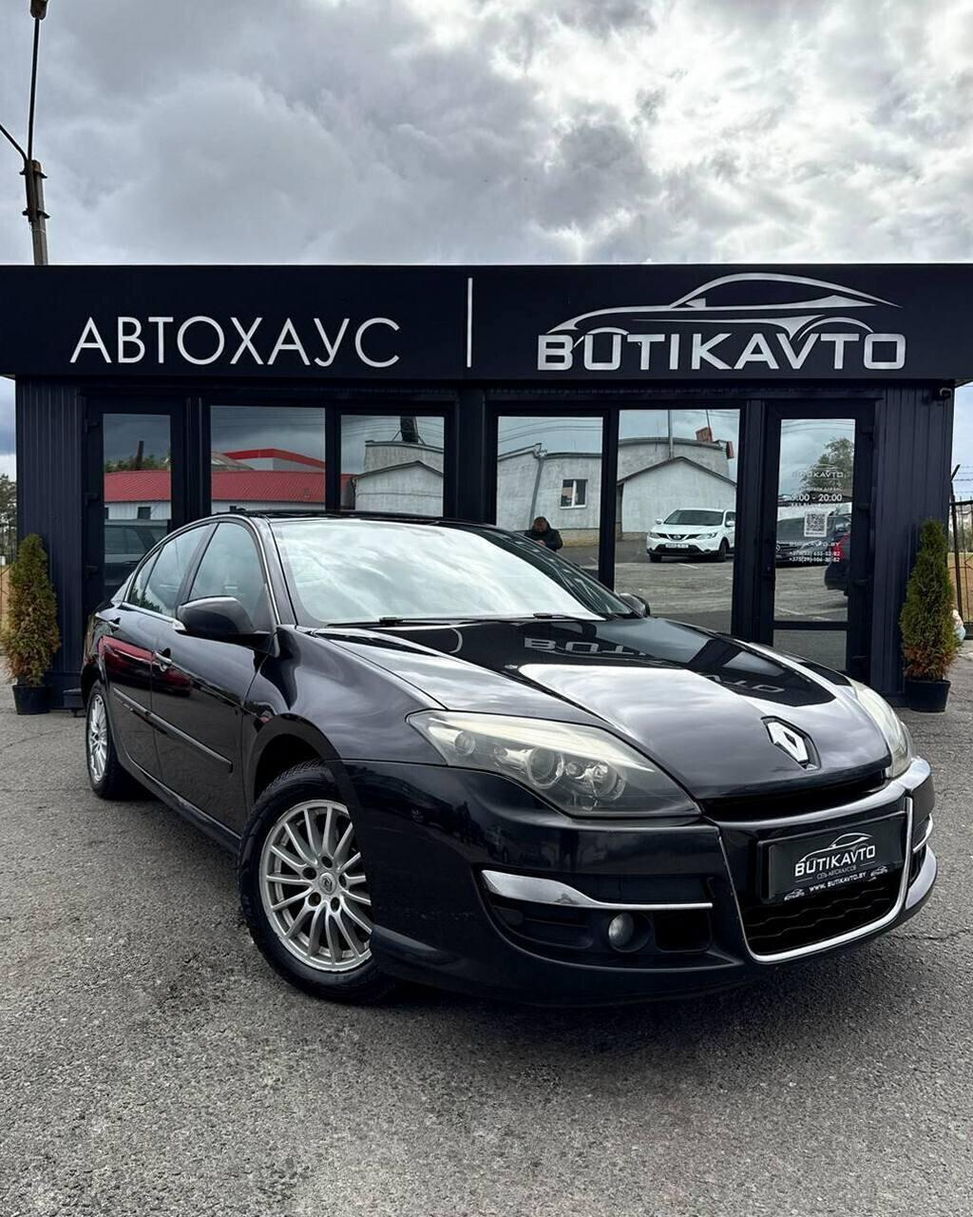Laguna_2010-2015: (62, 499, 945, 1040)
